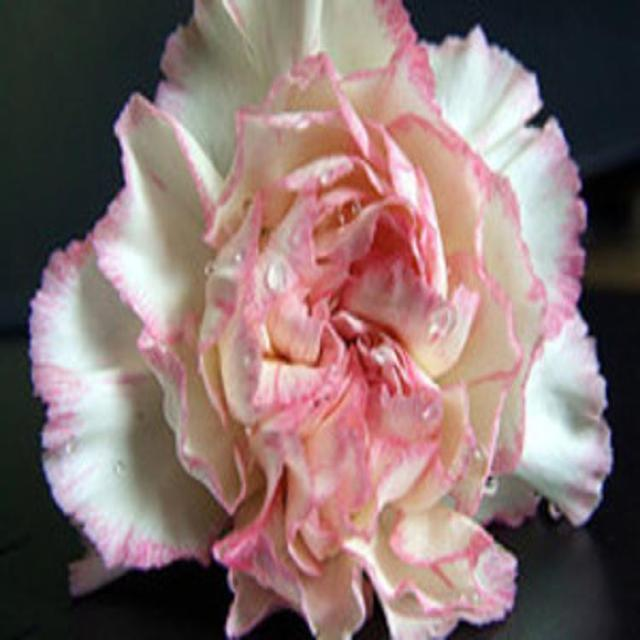carnation: (48, 21, 612, 624)
